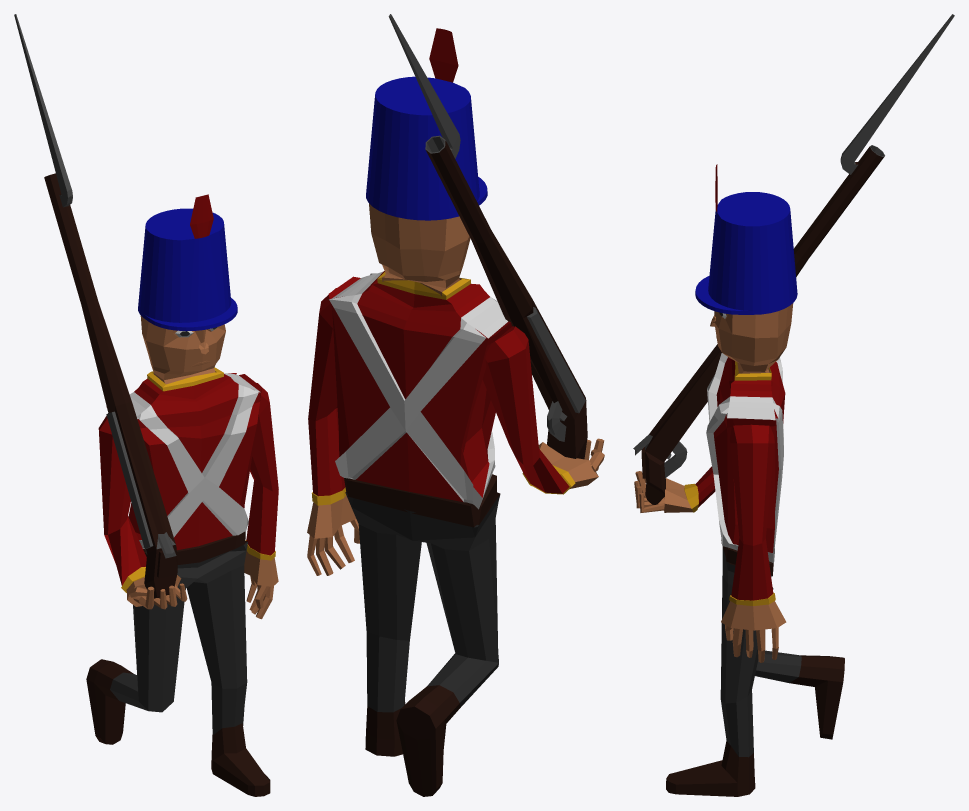
The model's file is frame6.obj.
The picture shows the model from 3 angles, left to right: view 1: azimuth 30°, elevation 25°; view 2: azimuth 150°, elevation 25°; view 3: azimuth 270°, elevation 25°; orthographic projection. The views are drawn at different scales.
Parts seen in each view (by area): view 1: {Man}_Circle, {Mesket}_Cube.001; view 2: {Man}_Circle, {Mesket}_Cube.001; view 3: {Man}_Circle, {Mesket}_Cube.001.
Boxes of the visible parts, x1,y1,x2,y2 form: {Man}_Circle: (86, 194, 278, 796); {Mesket}_Cube.001: (14, 14, 177, 598); {Man}_Circle: (307, 28, 604, 796); {Mesket}_Cube.001: (388, 14, 587, 459); {Man}_Circle: (634, 164, 844, 796); {Mesket}_Cube.001: (633, 14, 954, 504).
Bounding box in the file's own units: 5.63 × 19.62 × 7.93.
